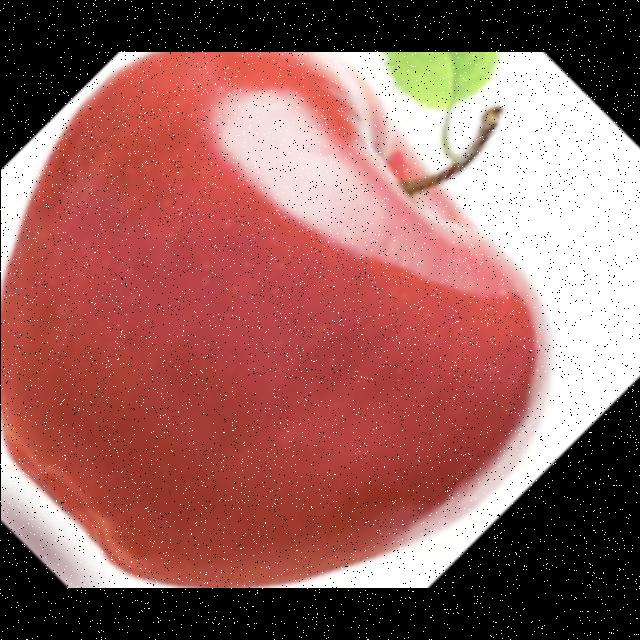Apel Segar: (1, 52, 562, 578)
